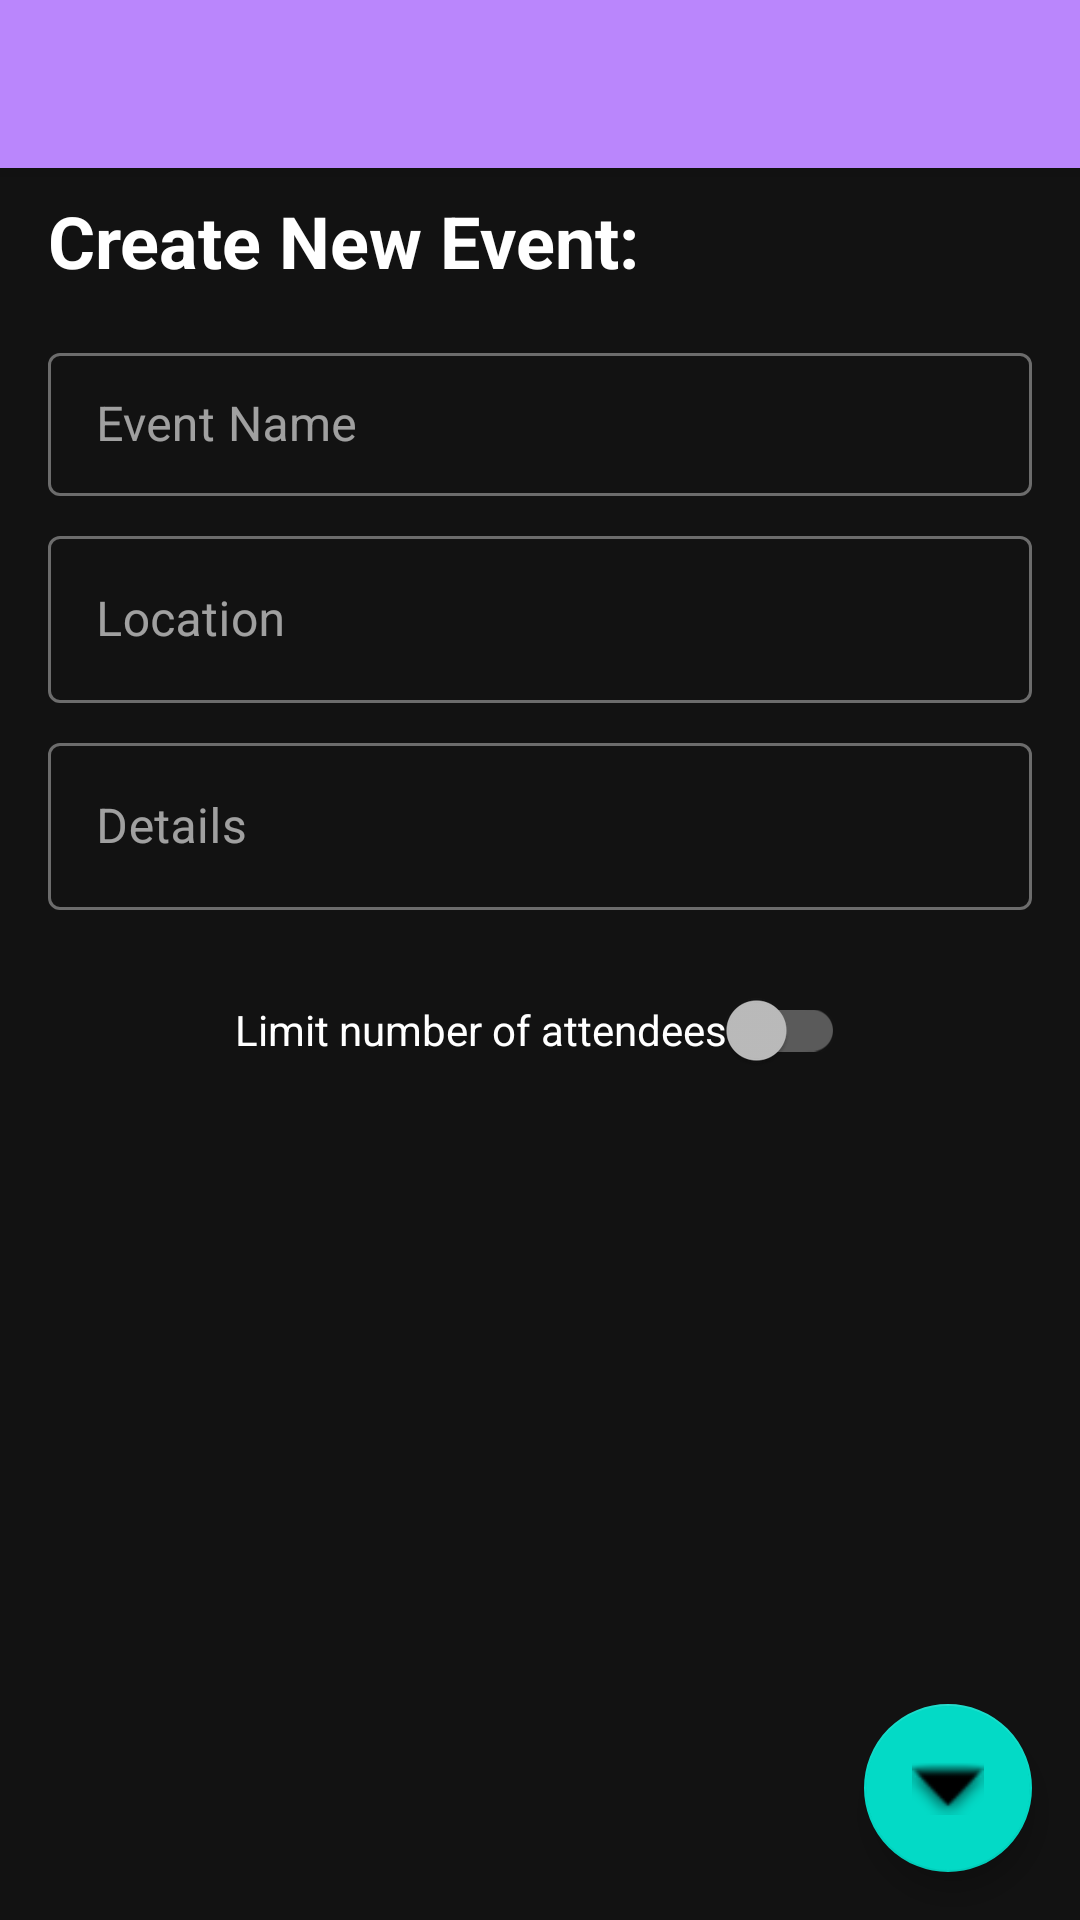

Named icons in this screenshot (1080px×1920px) and their bounding boxes, (x1, y1, x2, y2):
arrow down float: (864, 1704, 1032, 1872)
